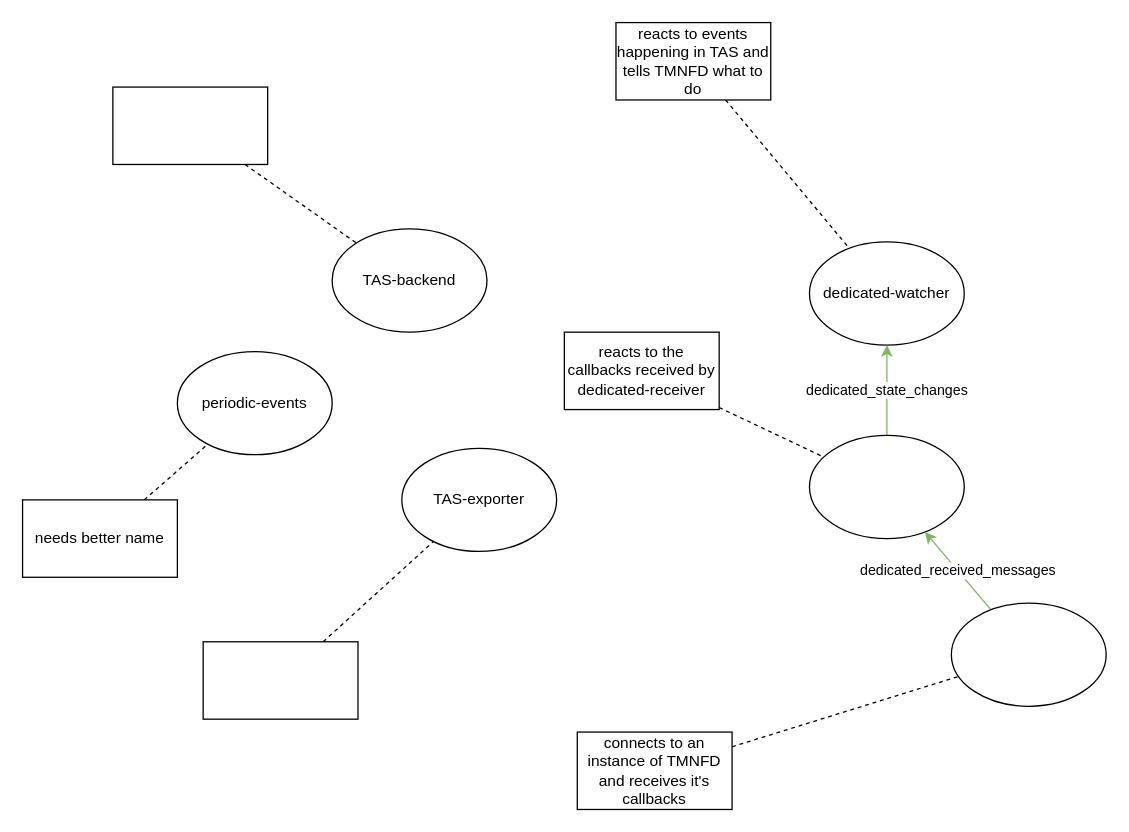
This 1129x832 diagram has some shape labels left out. Here are the shapes that lost their labels. From the top down, the centre of each, then its label:
At point 190,125: "delivers backend API".
At point 886,486: "dedicated-worker".
At point 1028,654: "dedicated-receiver".
At point 280,679: "prometheus metrics exporter".
